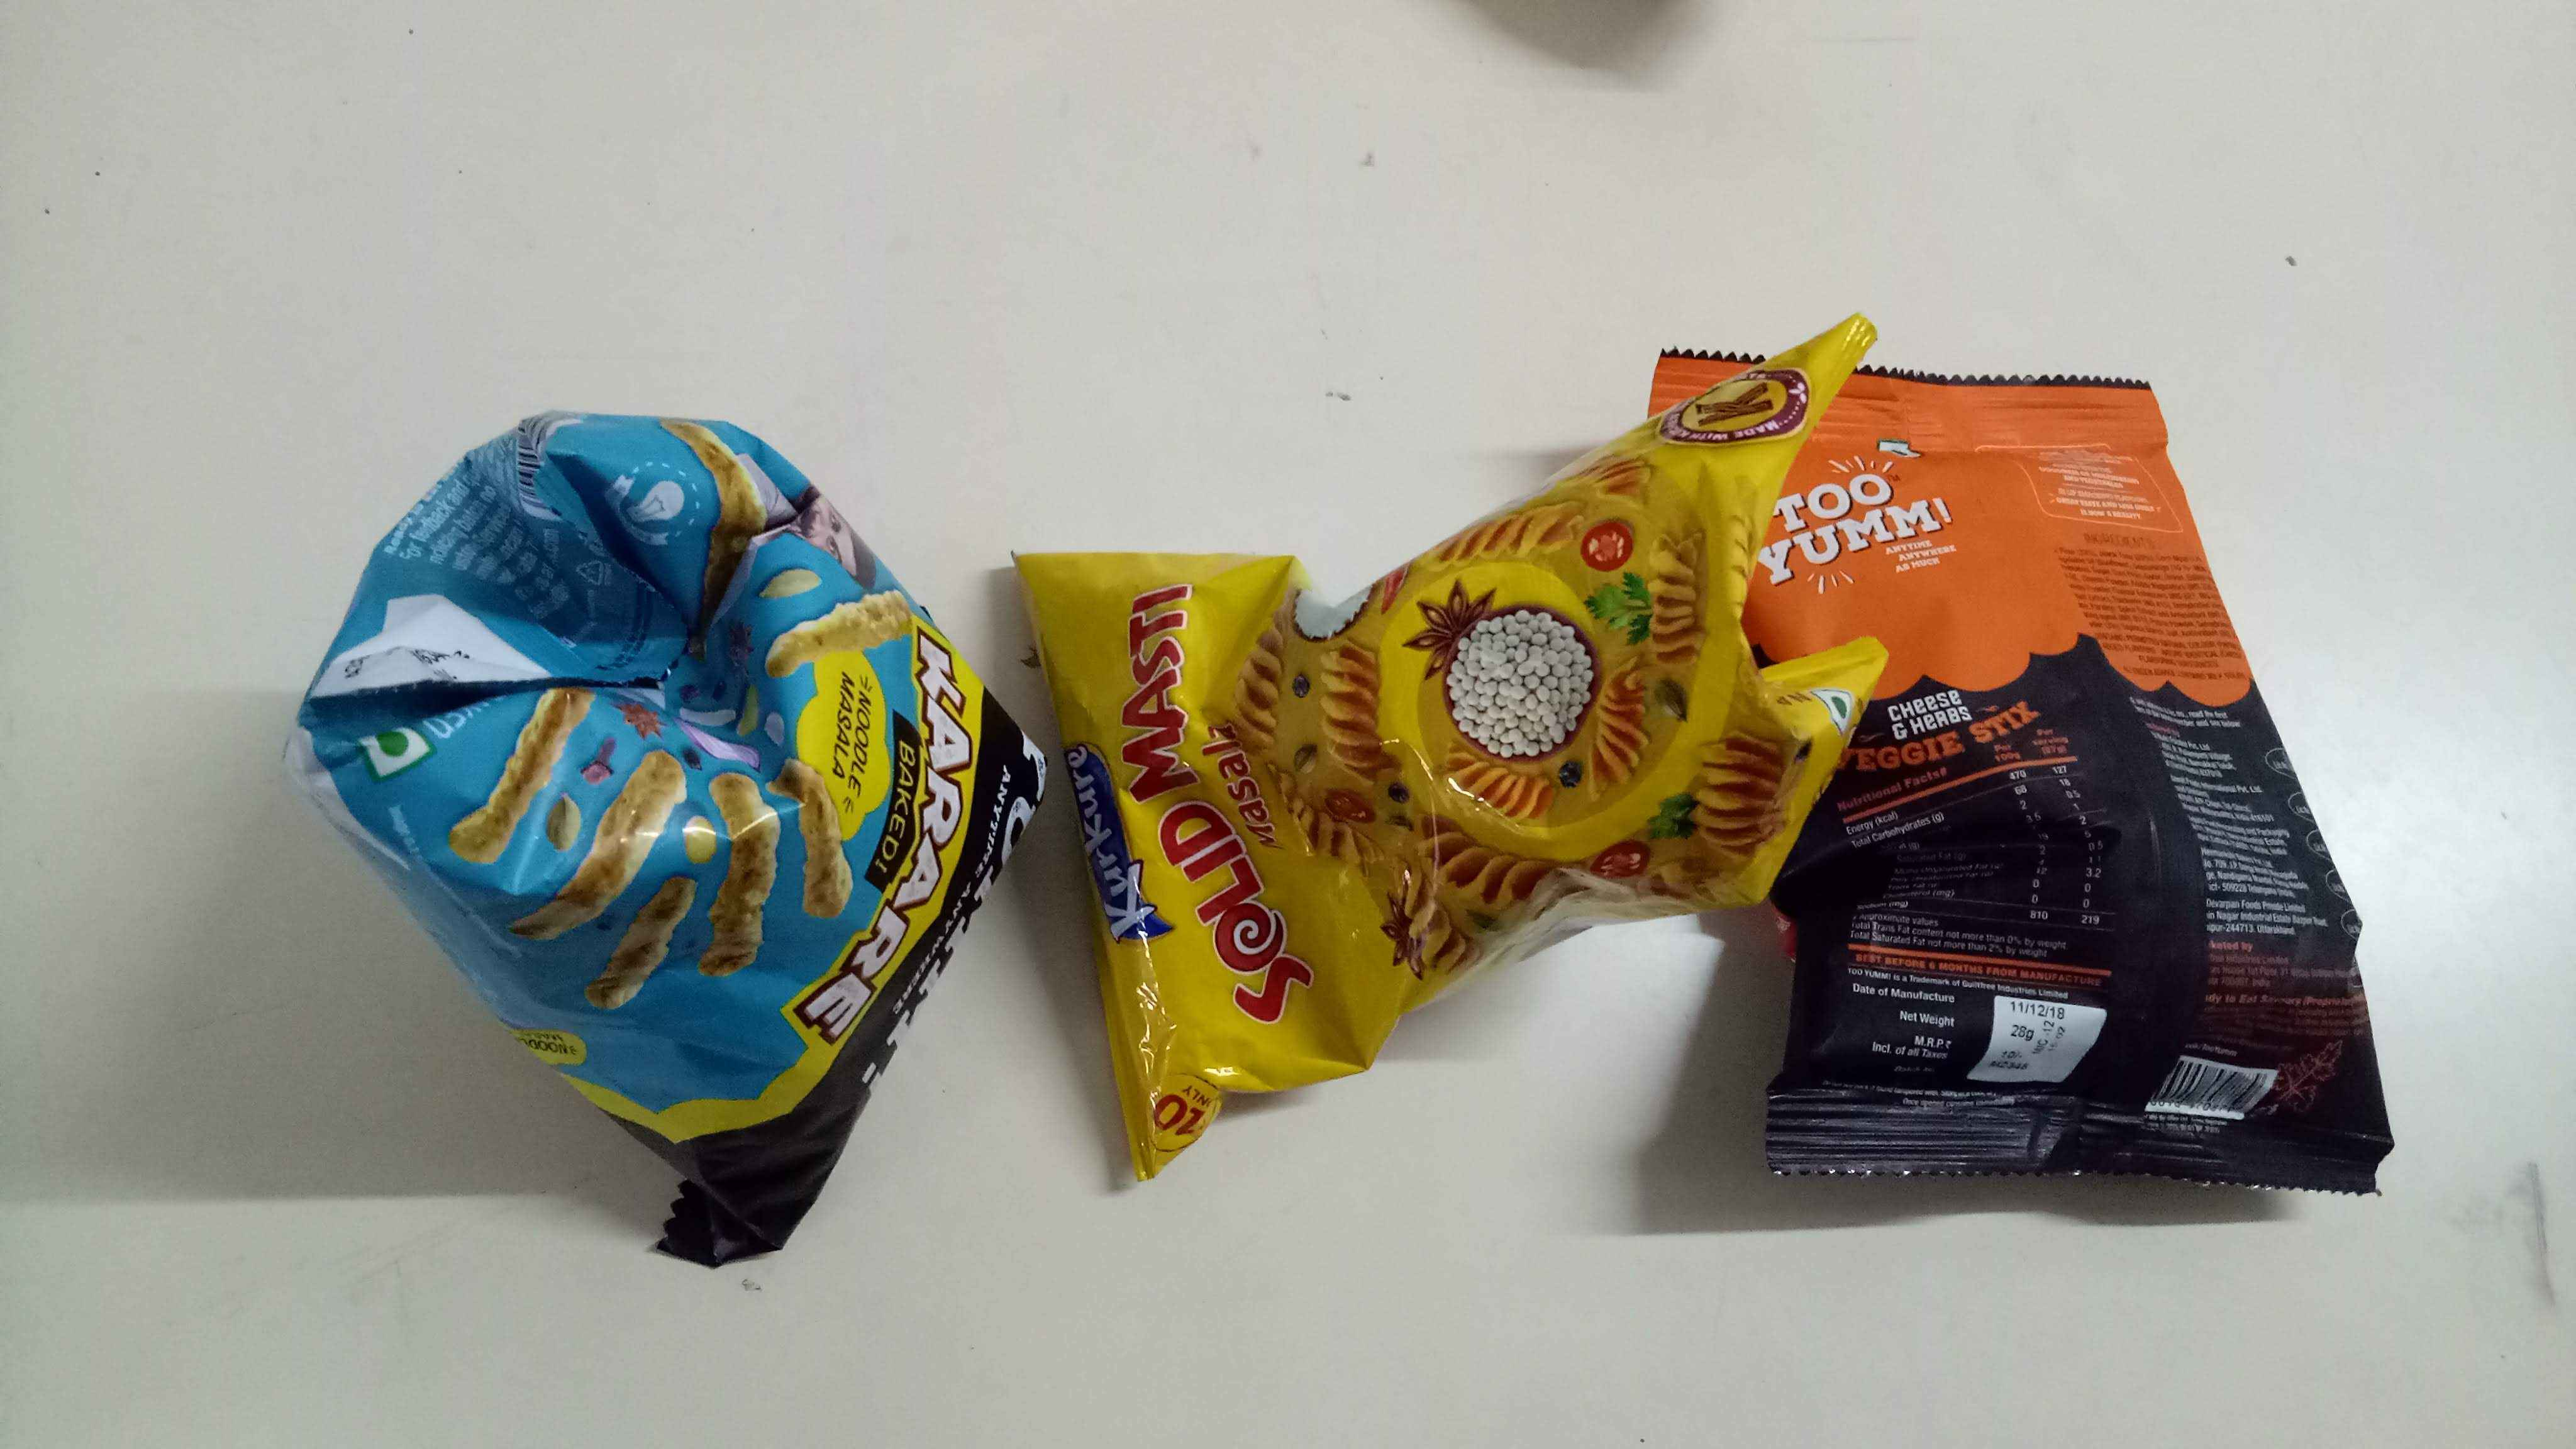kurkure: (1081, 745, 1171, 980)
tooyumm: (911, 690, 1046, 1120), (1759, 478, 1971, 587)
